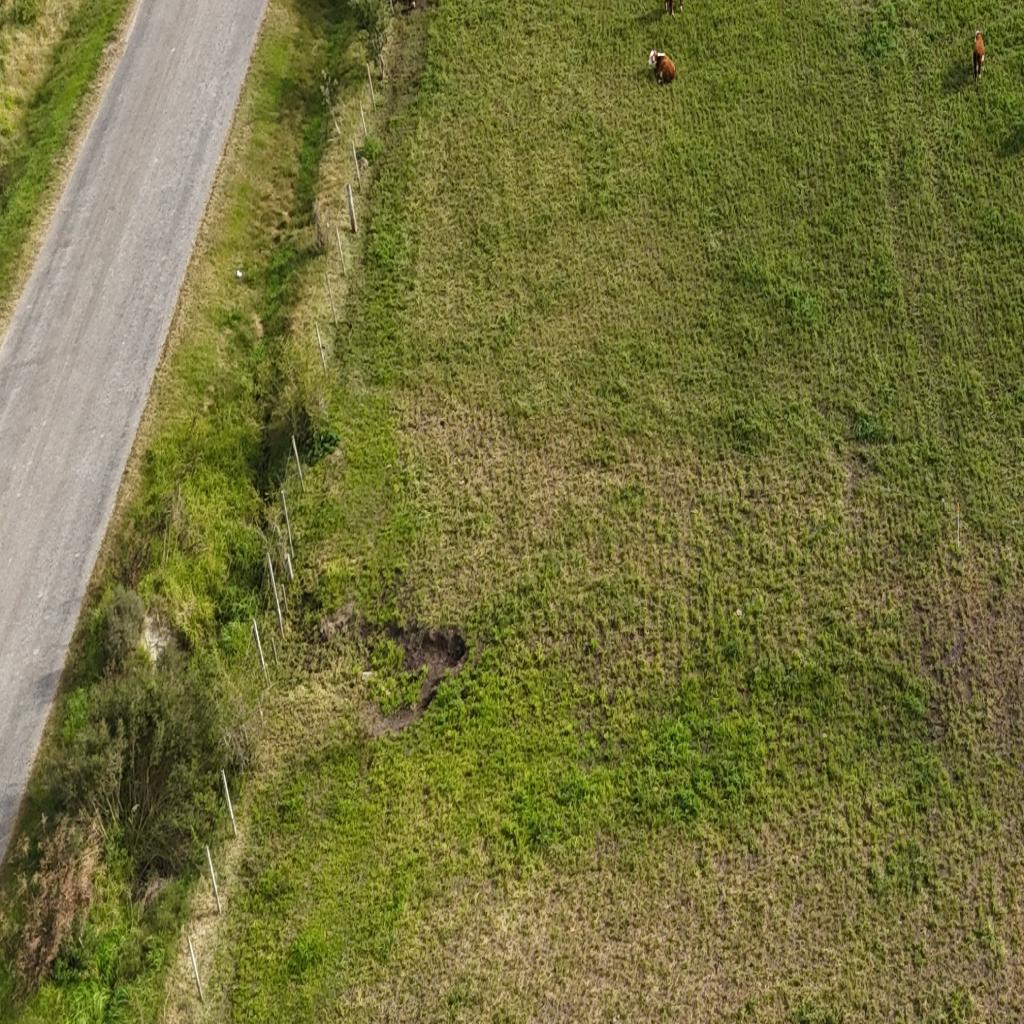cow: (647, 47, 676, 85), (970, 27, 987, 86)
